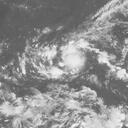cyclone: (50, 34, 93, 78)
